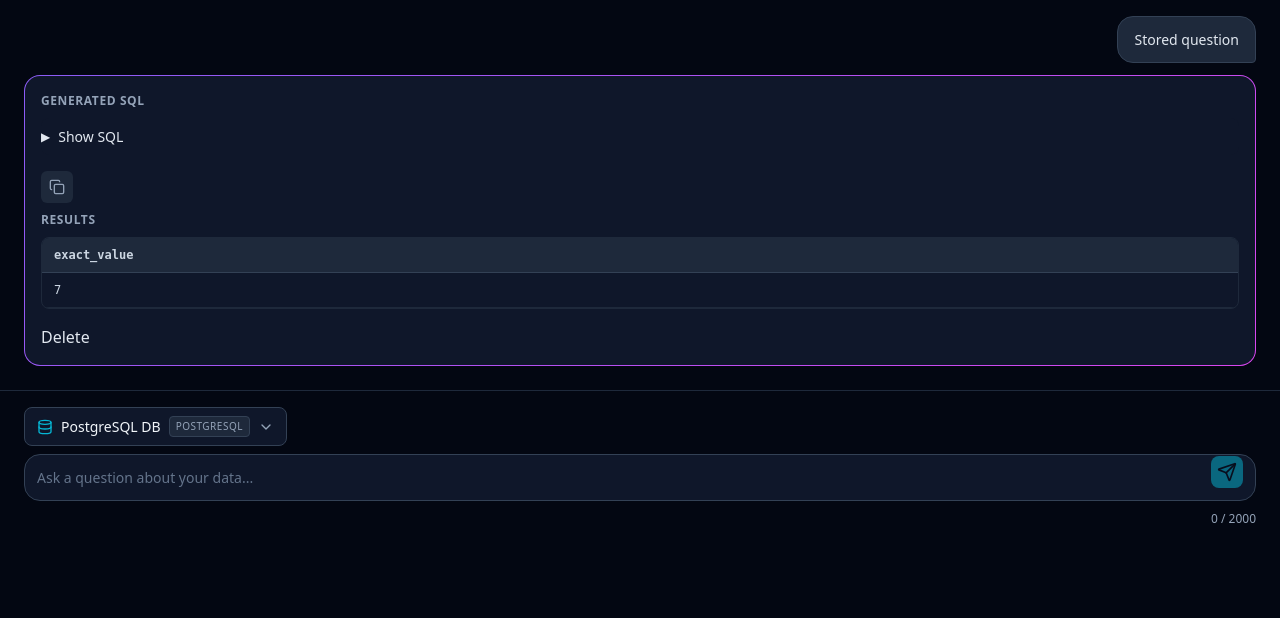
Scenario: Workspace result deletion recovery › restores with an explicit uncertain state when reconciliation also fails
Click the button with test id "action-delete-result": click(65, 337) x1=41 y1=325 x2=90 y2=349
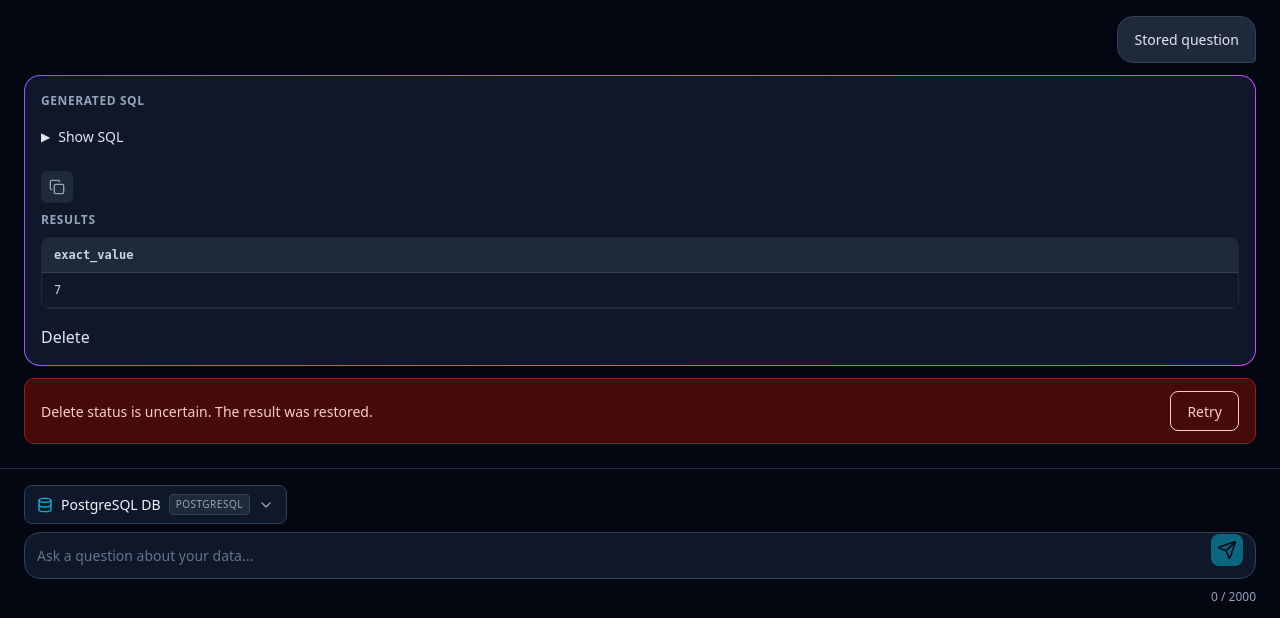
Expected: the message "Delete status is uncertain. The result was restored." is shown, x1=24 y1=378 x2=1256 y2=444
